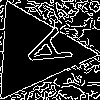A: (10, 26, 73, 77)
